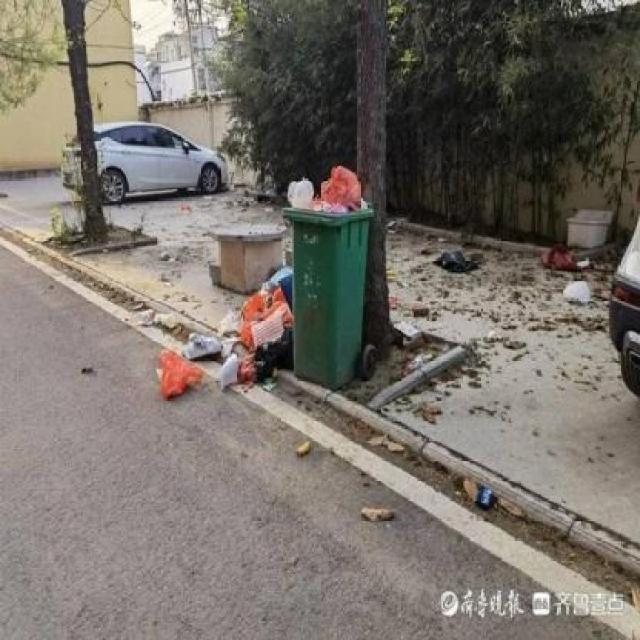garbage: (213, 263, 289, 380), (143, 335, 204, 412), (282, 168, 366, 216)
